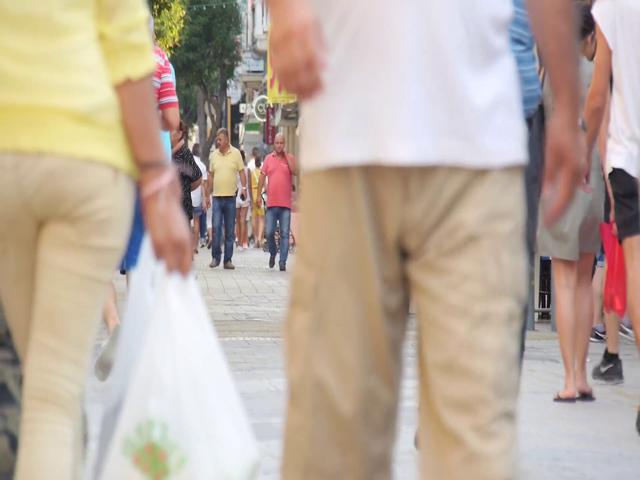shoe: (554, 387, 576, 401)
